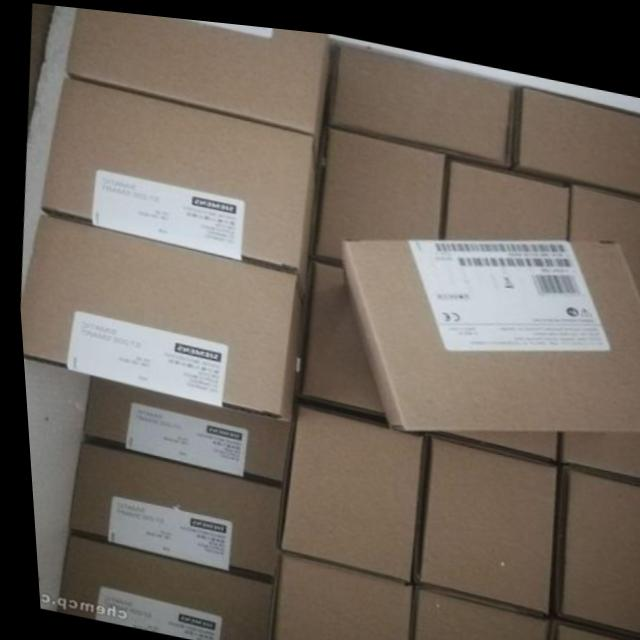box: (337, 225, 640, 421), (37, 75, 315, 286), (17, 214, 301, 413), (64, 6, 331, 147), (59, 439, 275, 577), (272, 397, 418, 576), (405, 426, 550, 604), (49, 532, 266, 640), (324, 36, 514, 156), (77, 375, 288, 482), (311, 120, 443, 260), (545, 452, 640, 625), (510, 75, 640, 184), (264, 546, 403, 640), (297, 255, 379, 409), (441, 150, 566, 229), (564, 171, 640, 293), (405, 580, 540, 640), (553, 420, 640, 468), (430, 420, 551, 450), (540, 607, 640, 640)
